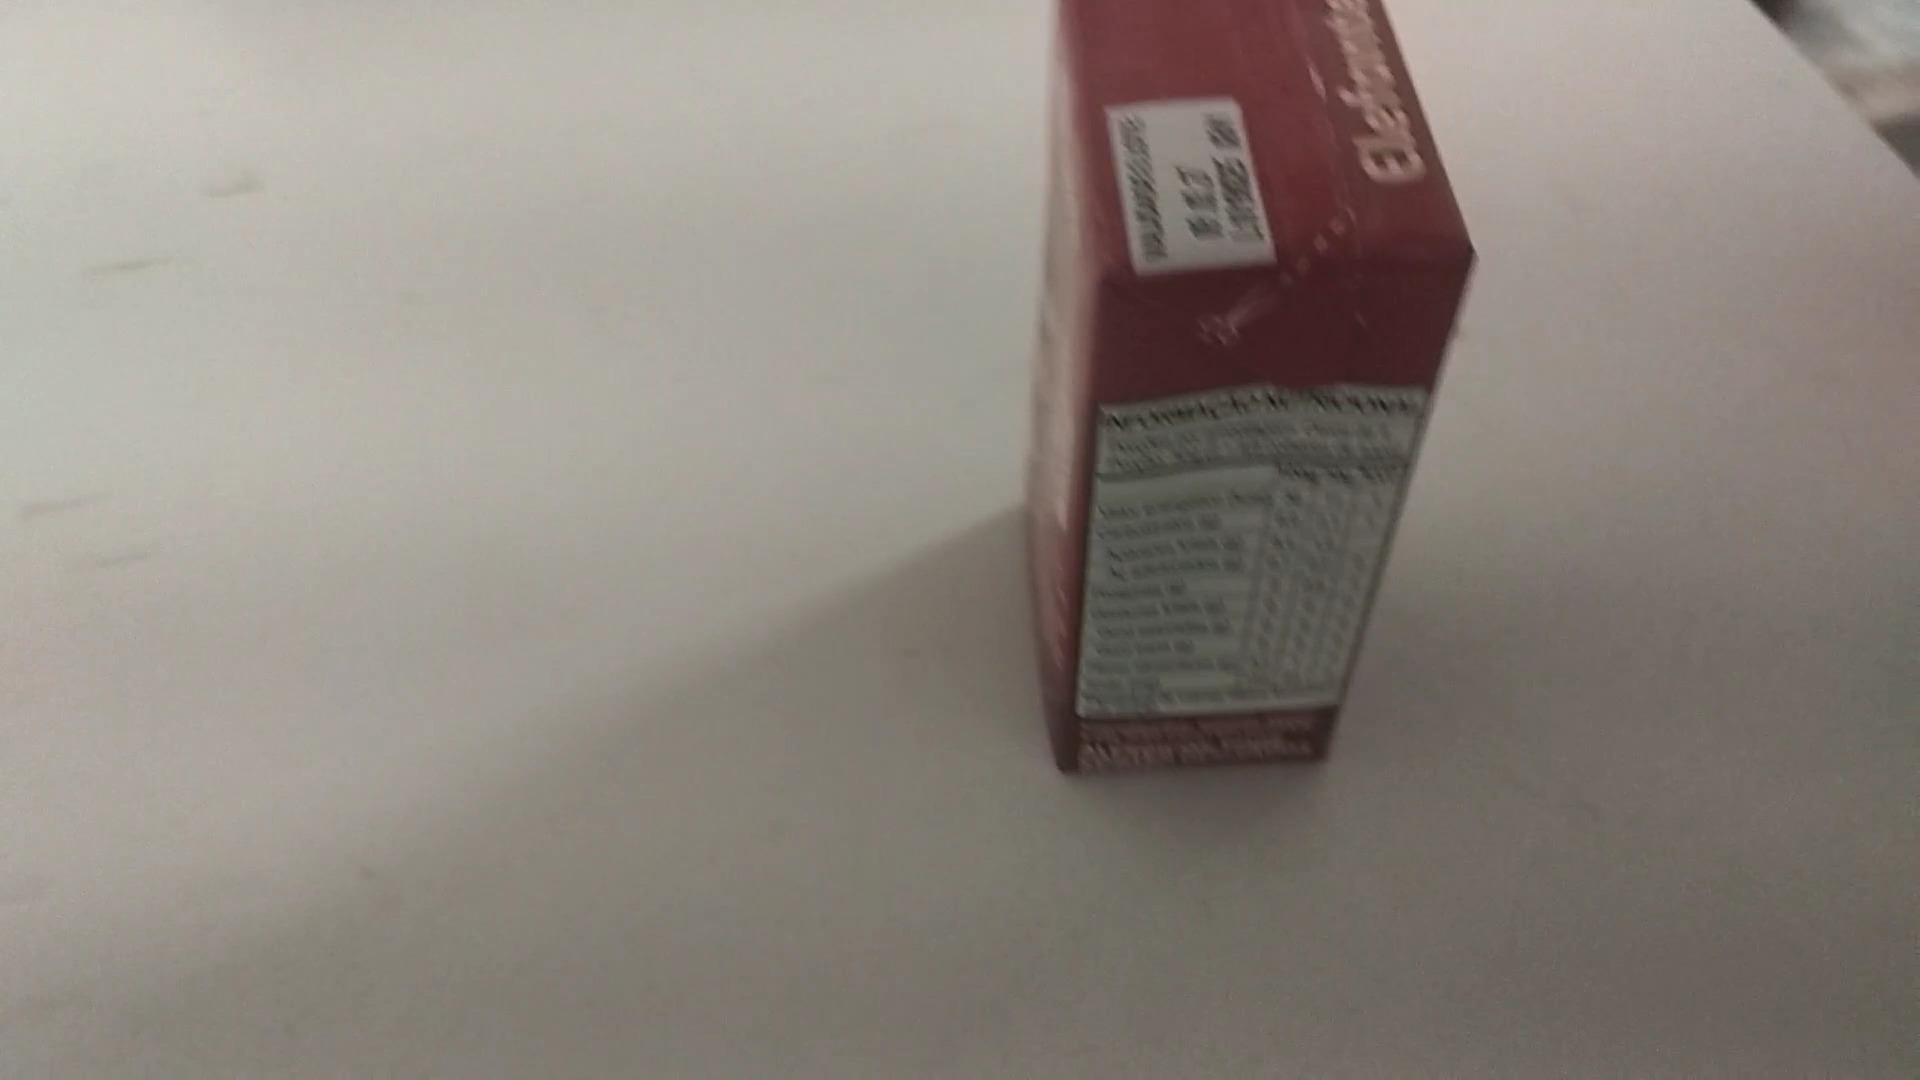tomate: (1023, 0, 1473, 789)
